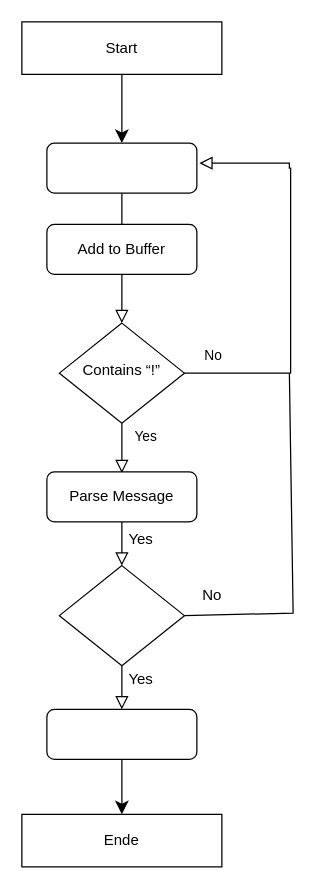
Image size: 325x889. Some labels were removed from this diagram. The centre of each missing label's shape, as x and y in pixels:
"Execute Action" goes at (121,733).
"Parse success" goes at (121,615).
"Recieve Command" goes at (121,167).
